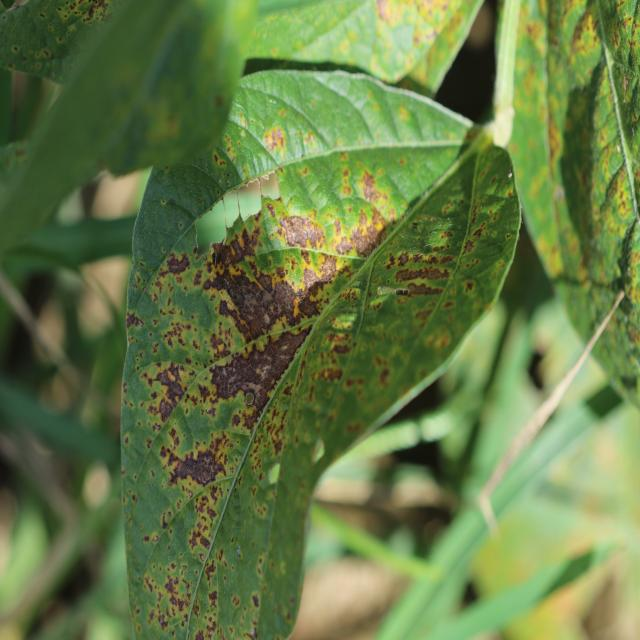Bacterial_Blight: (201, 331, 304, 426), (454, 167, 518, 265), (251, 374, 304, 477), (219, 263, 281, 339), (164, 429, 214, 508), (139, 359, 196, 427), (208, 359, 257, 407), (274, 213, 328, 254), (209, 224, 258, 269), (162, 571, 195, 620), (158, 318, 198, 354), (393, 265, 454, 284), (295, 285, 327, 321), (394, 281, 448, 298), (188, 525, 213, 553), (165, 251, 193, 275), (264, 126, 287, 154), (301, 267, 324, 293), (360, 169, 379, 200), (209, 238, 226, 269), (330, 312, 357, 331), (430, 331, 452, 353), (164, 575, 181, 603), (339, 287, 361, 302), (204, 560, 217, 582), (461, 238, 476, 255), (160, 511, 172, 530), (472, 223, 486, 239), (397, 251, 410, 267), (208, 590, 218, 606), (464, 280, 475, 293), (244, 629, 257, 639), (251, 593, 259, 607), (167, 370, 176, 382), (413, 252, 424, 261), (158, 613, 165, 626), (142, 535, 150, 543), (152, 534, 159, 542), (174, 576, 179, 584), (194, 568, 199, 576), (237, 546, 241, 556), (161, 481, 166, 488)
Soybean: (122, 70, 520, 640)
